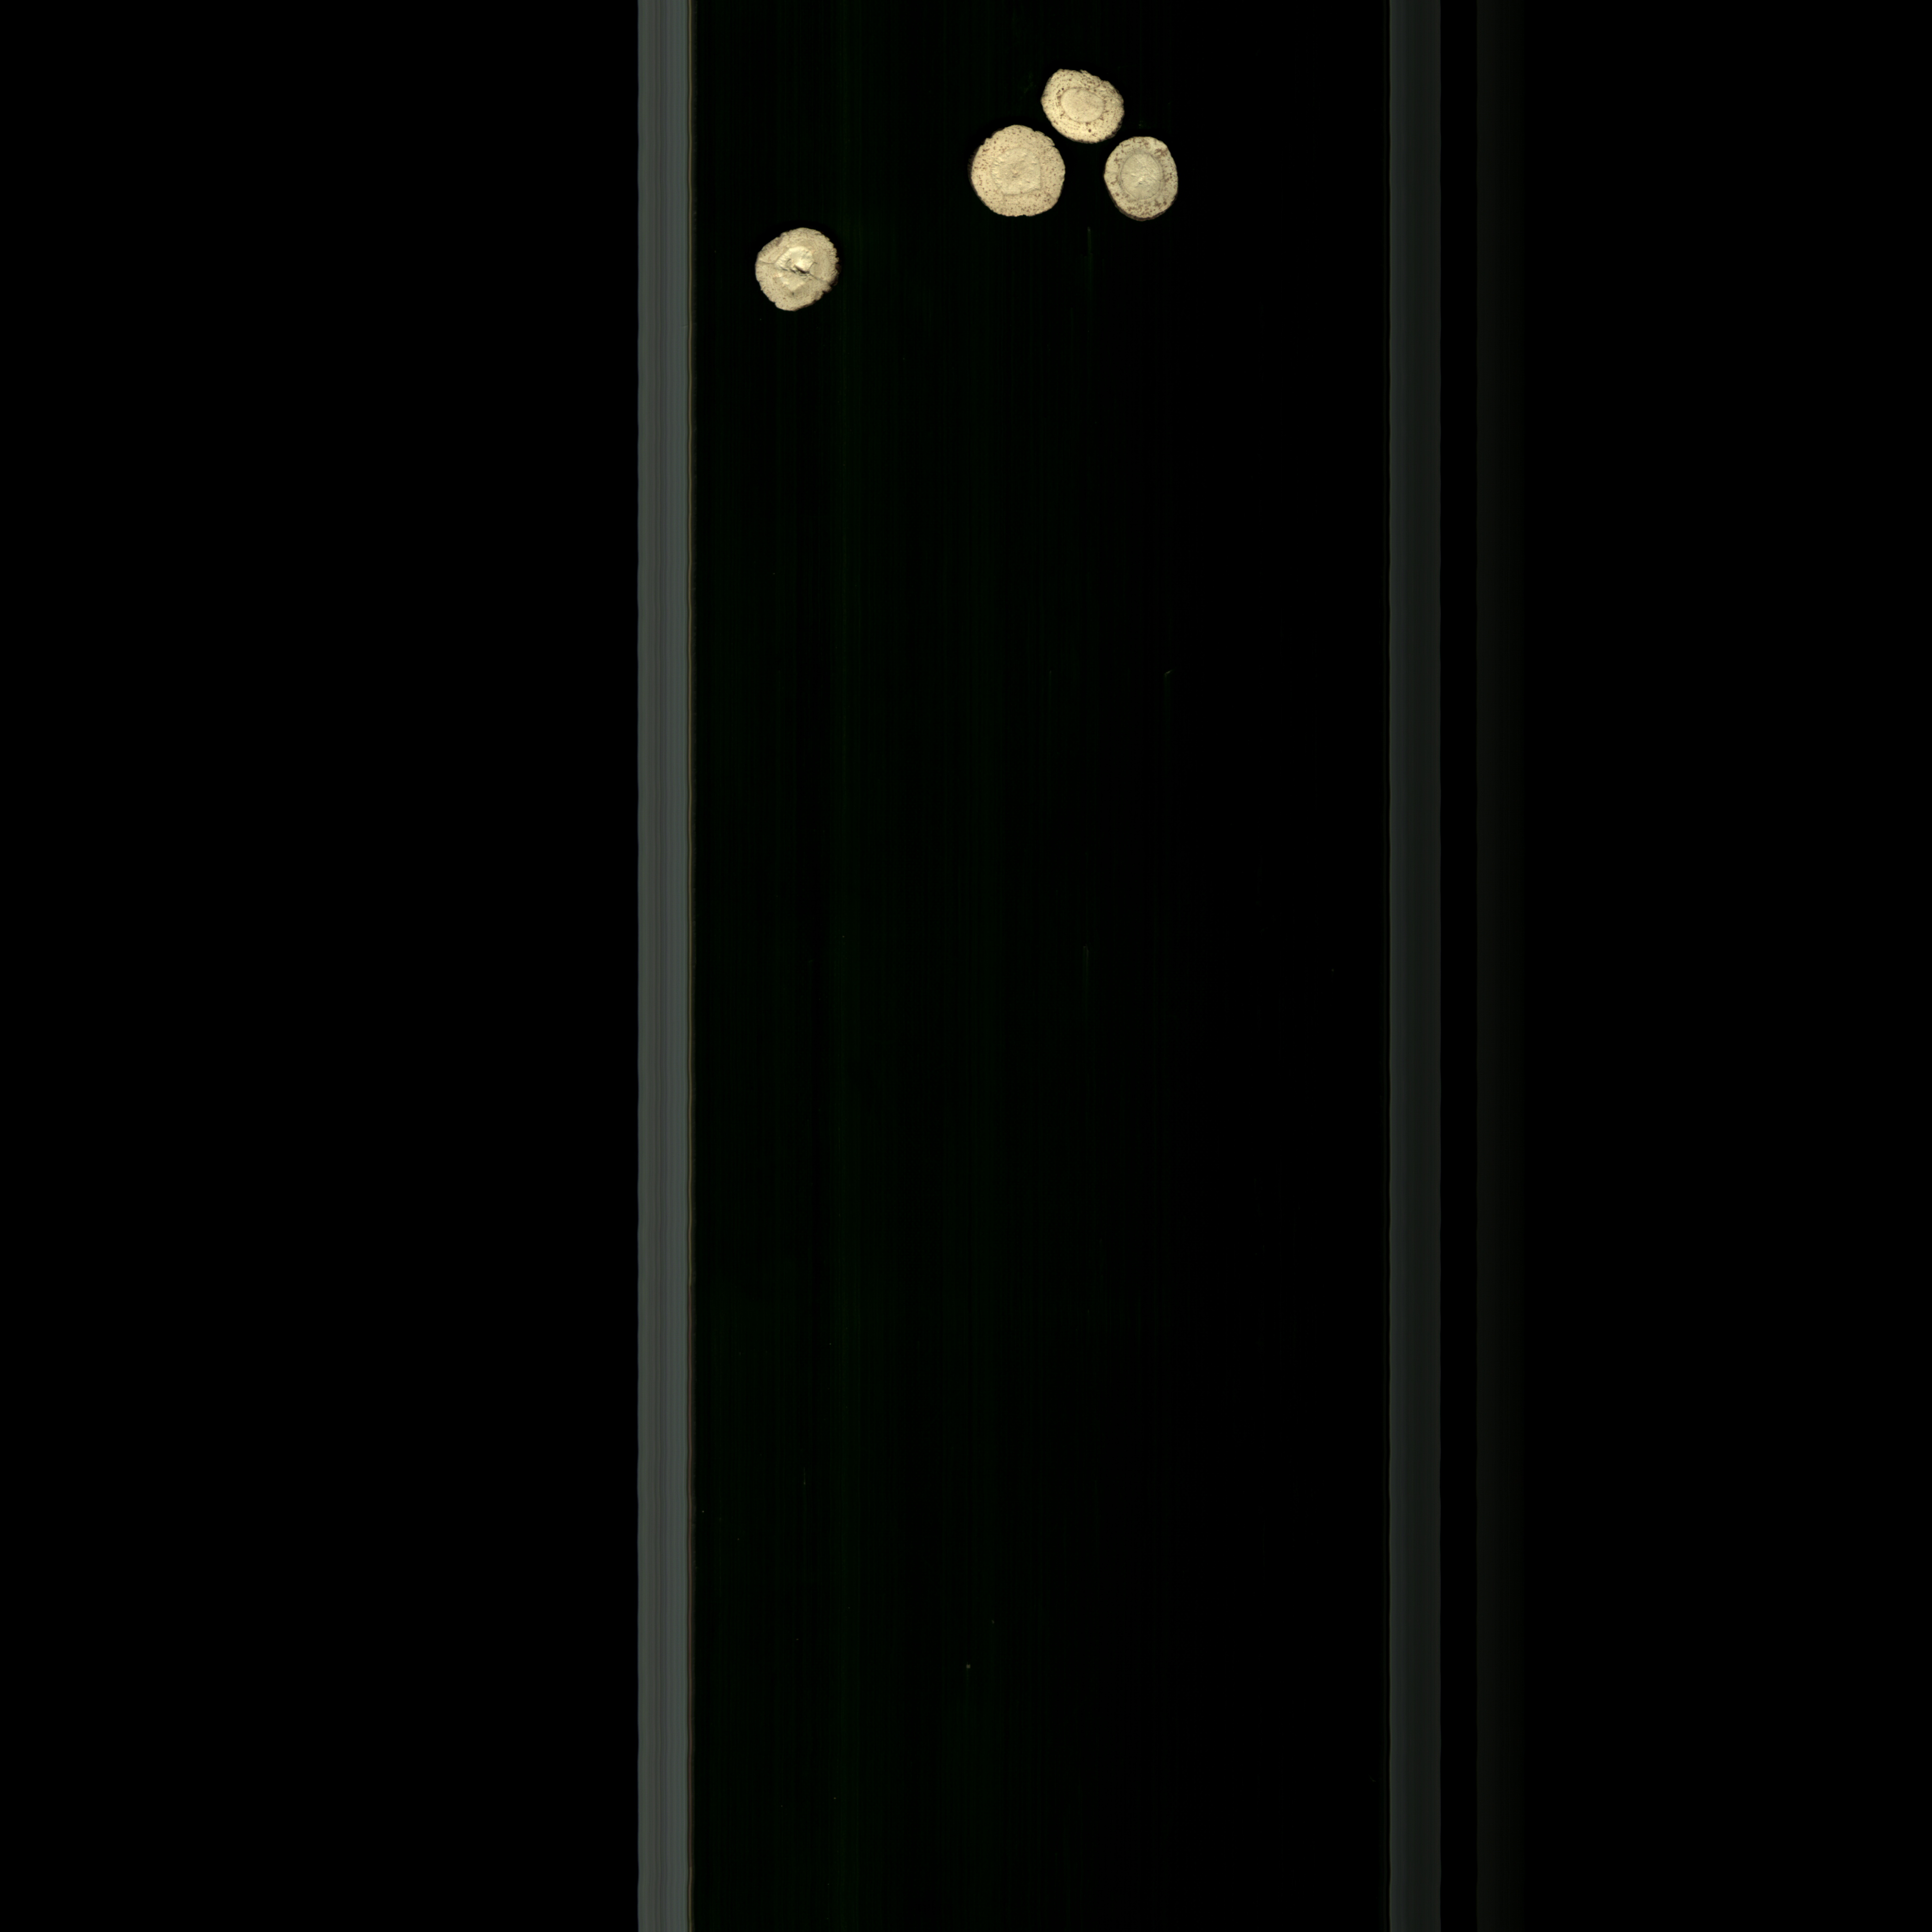hole: (748, 219, 849, 326)
moldy: (1039, 58, 1131, 147)
